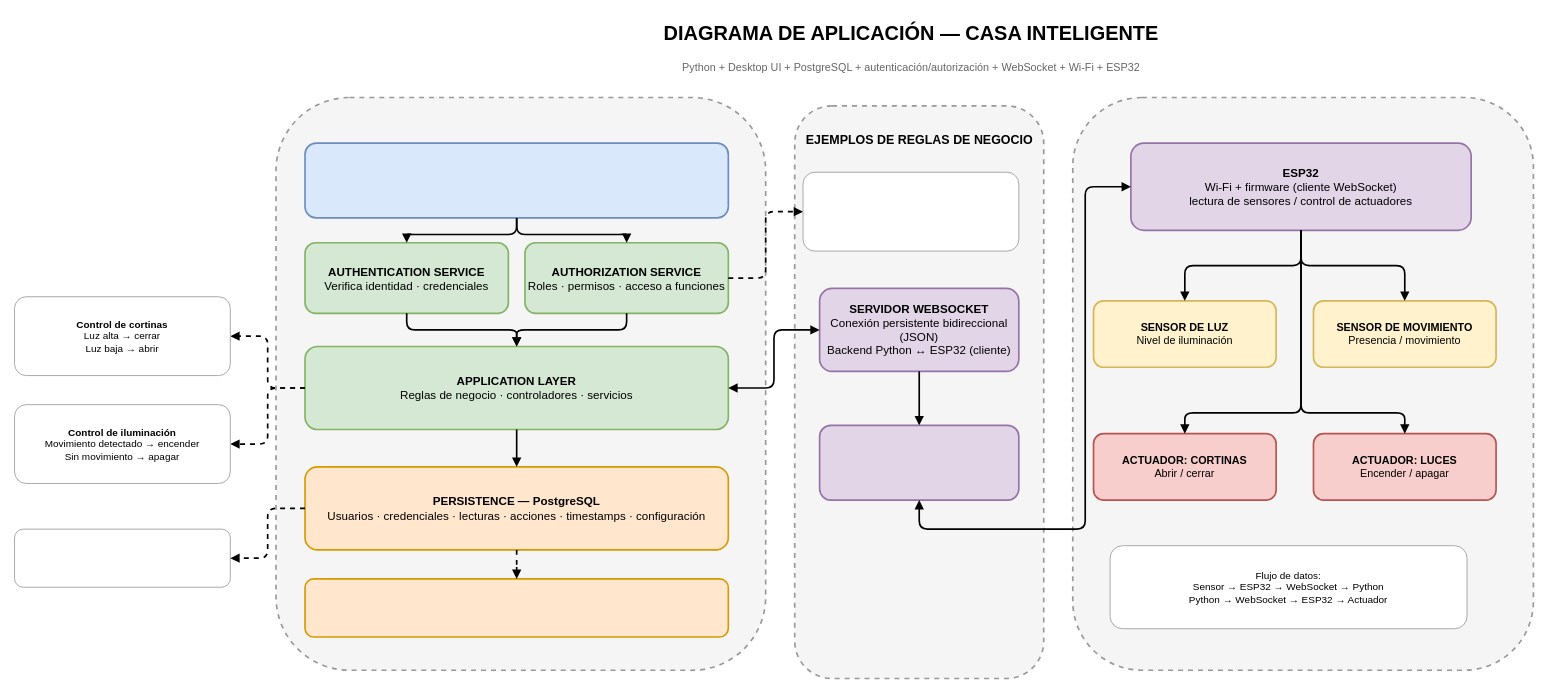
The diagram is 1556 pixels wide and 693 high, and some of its shapes have lost their labels. Here are the shapes that lost their labels. From the top down, the box of each, then its label:
(304, 142, 729, 218): DESKTOP UI Python / PySide6 Login · dashboard · comandos · estado
(802, 171, 1019, 251): Seguridad de acceso Login → autenticar → autorizar según permisos
(793, 105, 1044, 679): 2. COMUNICACIÓN / RED
(1072, 96, 1534, 671): 3. HARDWARE / MUNDO FÍSICO
(818, 424, 1019, 500): WI-FI Red de comunicación
(14, 528, 230, 587): Persistencia Guardar lectura, acción, usuario y timestamp
(304, 578, 729, 637): REPOSITORIES UserRepository · SensorRepository · ActionRepository
